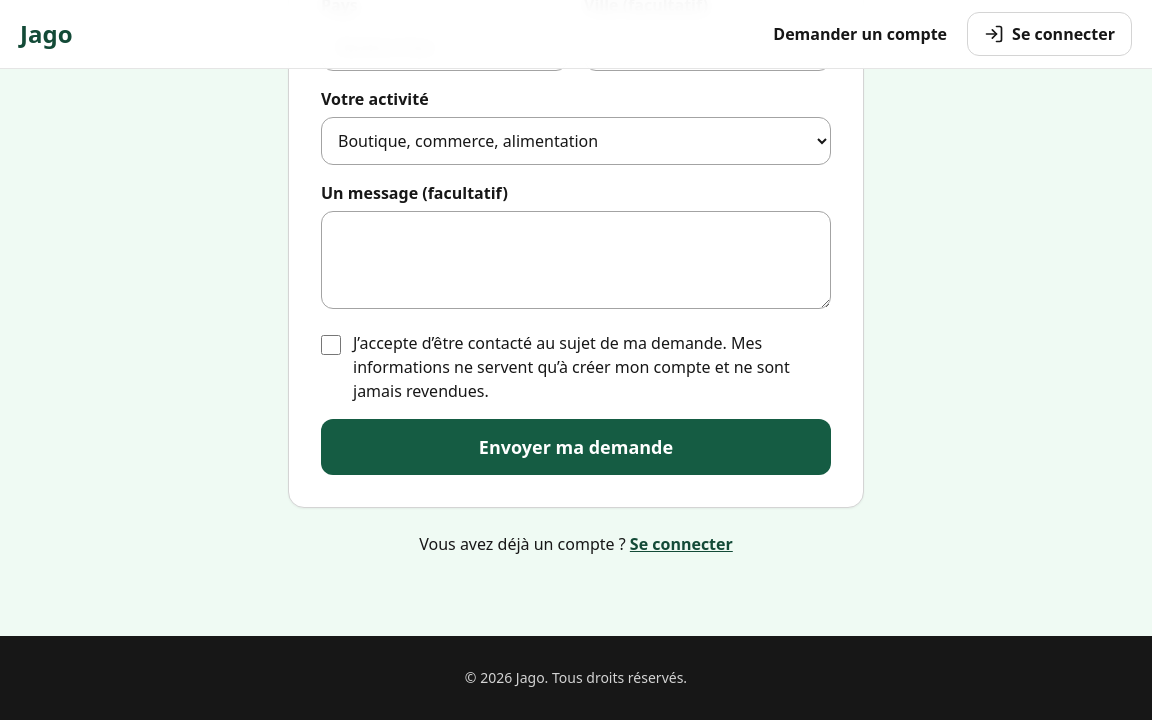
page d’accueil › refuse un formulaire incomplet sans rien envoyer
(page scrolled)
Step 1. Click the button "Envoyer ma demande" → (576, 447), box x1=321 y1=419 x2=831 y2=475
(page scrolled)
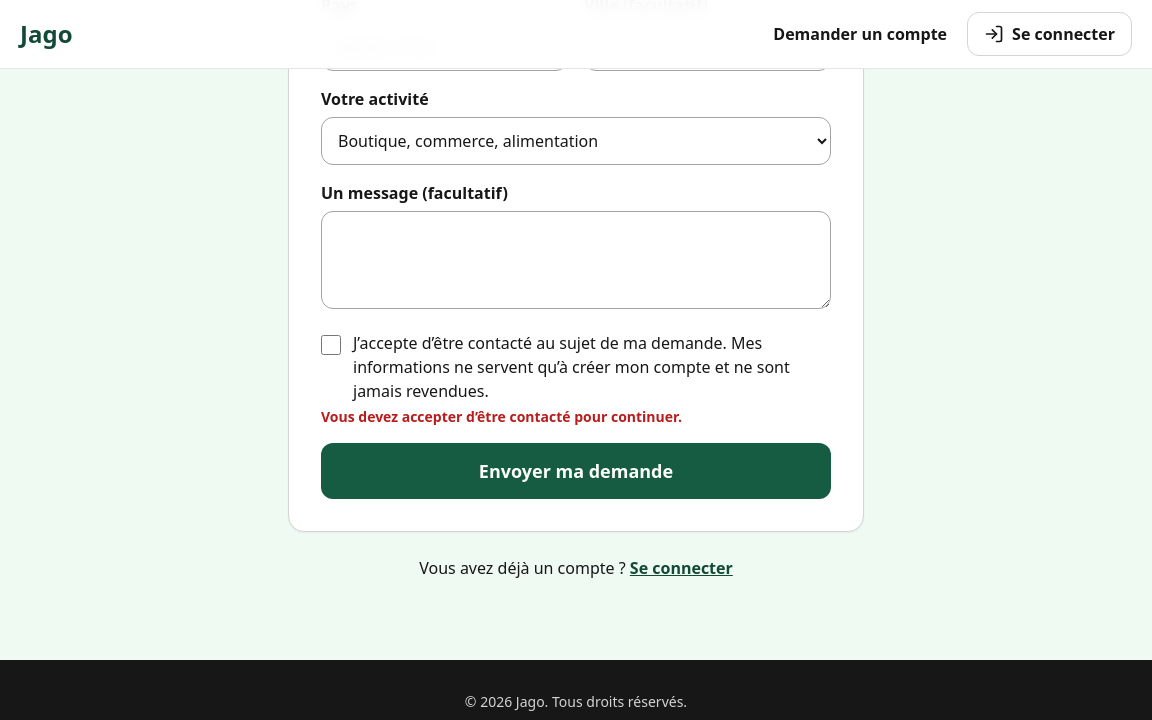
Expected: the text "Vous devez accepter d’être contacté pour continuer." is shown, x1=321 y1=407 x2=682 y2=426
